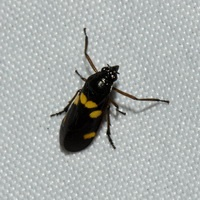insect: (50, 28, 168, 151)
